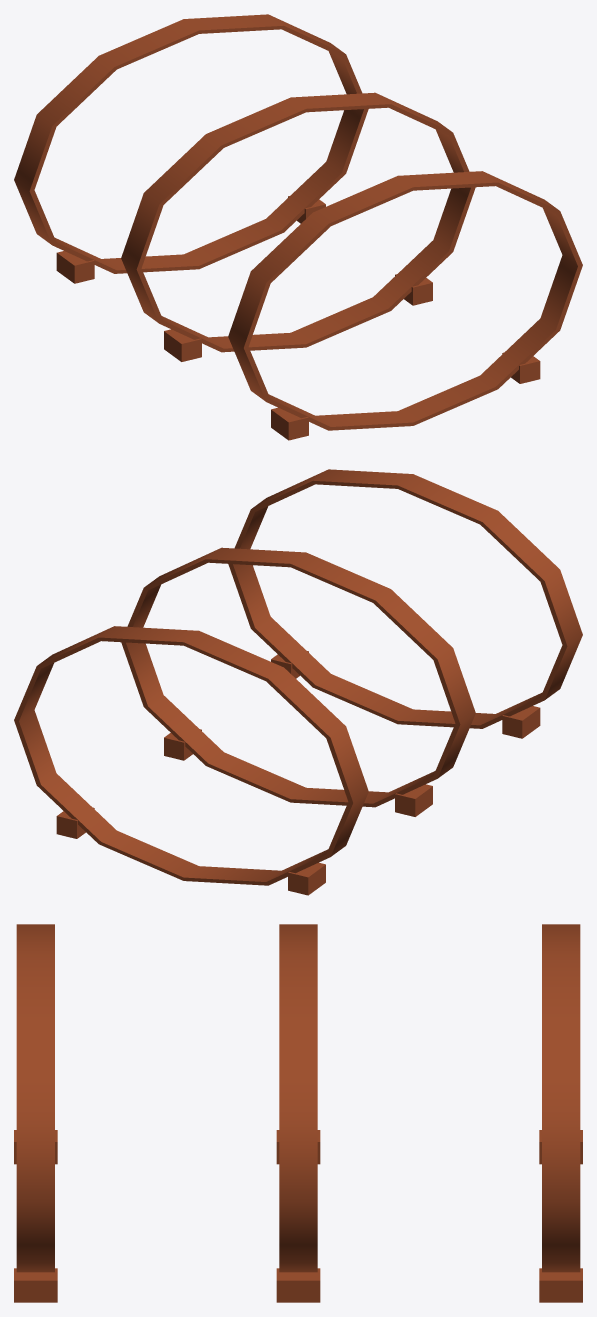
Rendered from pod100_cradles.obj.
The picture shows the model from 3 angles, top to bottom: view 1: azimuth 30°, elevation 25°; view 2: azimuth 150°, elevation 25°; view 3: azimuth 270°, elevation 25°; orthographic projection. The views are drawn at different scales.
Visible parts, largest first — view 1: pod100_cradles; view 2: pod100_cradles; view 3: pod100_cradles.
Part boxes in pixels (x1,y1,x2,y2): pod100_cradles: (14,14,582,440); pod100_cradles: (14,469,582,895); pod100_cradles: (14,924,582,1302).
Size of the model in its own units: 7.05 by 4.74 by 8.34.
